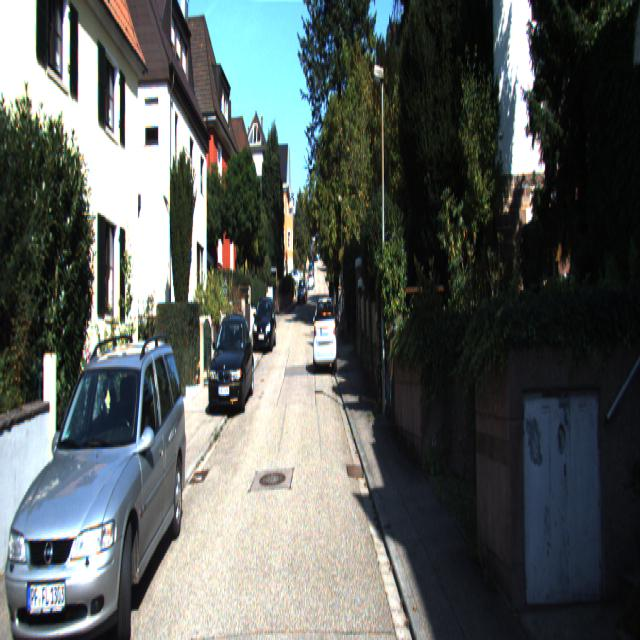Car: (0, 333, 191, 638), (206, 315, 256, 415), (313, 292, 338, 374), (253, 299, 277, 356)
